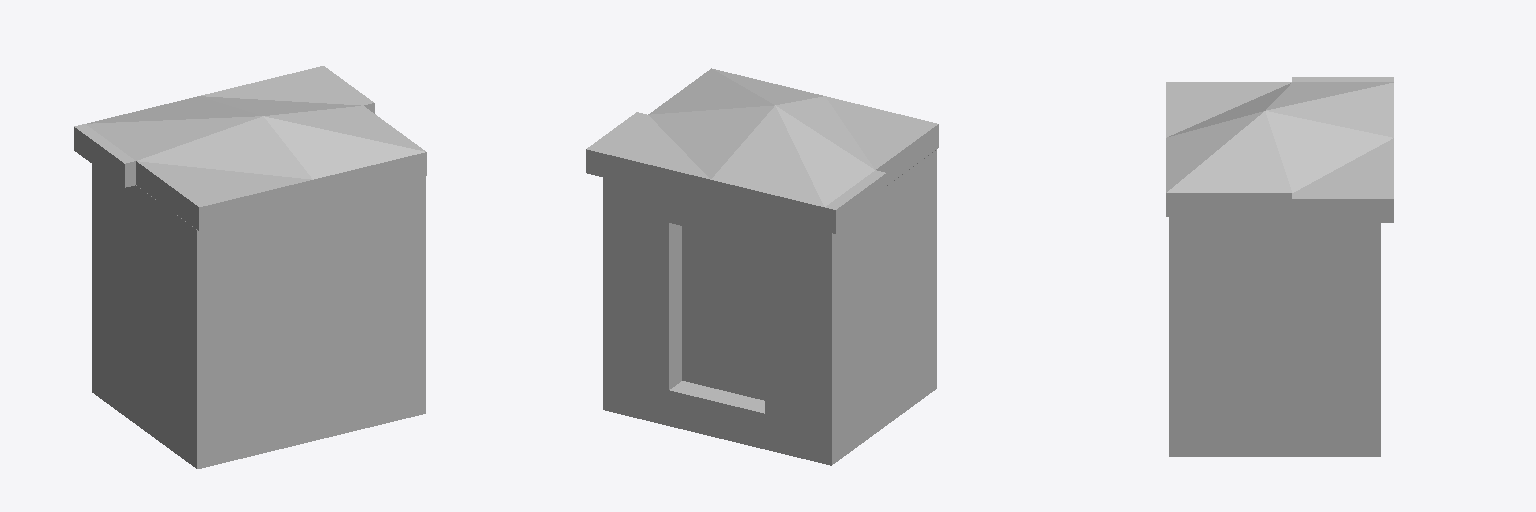
Rendered from mylandscaping_column_m_upper.obj.
The picture shows the model from 3 angles: view 1: azimuth 30°, elevation 25°; view 2: azimuth 150°, elevation 25°; view 3: azimuth 270°, elevation 25°; orthographic projection.
Parts seen in each view (by area): view 1: Block_Pillar_Top_Cube.004; view 2: Block_Pillar_Top_Cube.004; view 3: Block_Pillar_Top_Cube.004.
Part boxes in pixels (left/top/right/bottom): Block_Pillar_Top_Cube.004: left=74, top=66, right=426, bottom=468; Block_Pillar_Top_Cube.004: left=586, top=68, right=938, bottom=465; Block_Pillar_Top_Cube.004: left=1166, top=77, right=1393, bottom=456.
Bounding box in the file's own units: 1.09 × 1.21 × 0.8654.